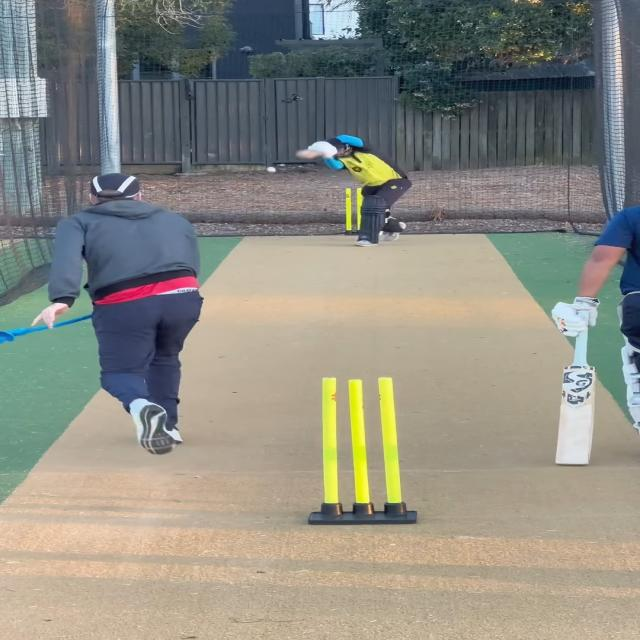ball: (265, 166, 276, 172)
stump: (307, 376, 421, 526)
